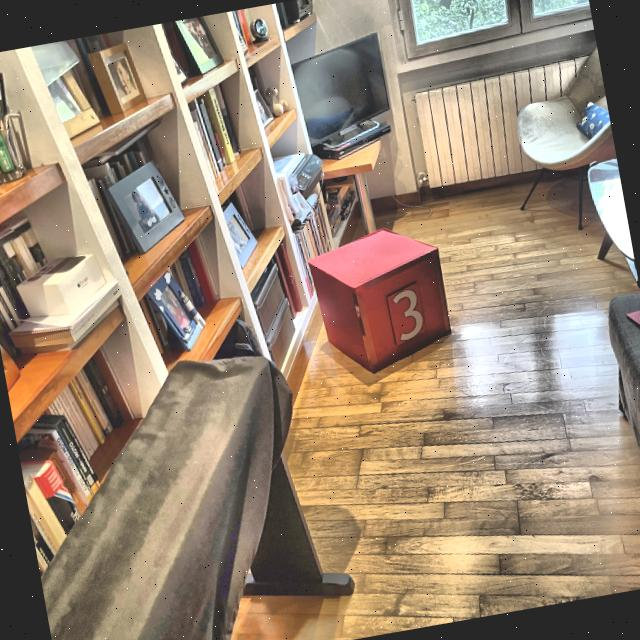red box: (303, 219, 456, 381)
three: (390, 288, 428, 342)
